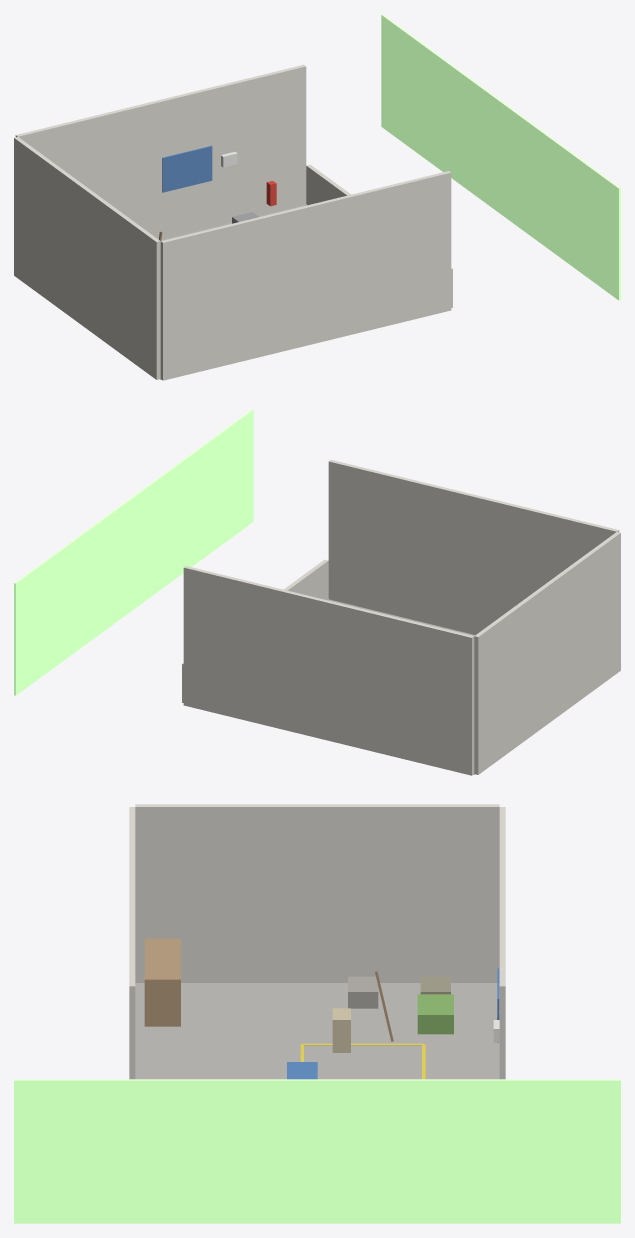
Rendered from workshop-BiJVYV3j.glb.
3 views of the same model, one above another, from view 1: azimuth 30°, elevation 25°; view 2: azimuth 150°, elevation 25°; view 3: azimuth 270°, elevation 25° (orthographic). The views are drawn at different scales.
Parts seen in each view (by area): view 1: SET_wall_front, SET_wall_back, SET_backdrop, SET_wall_left, SET_toolboard, SET_wall_window; view 2: SET_wall_back, SET_wall_front, SET_backdrop, SET_wall_left, SET_wall_window; view 3: SET_backdrop, SET_wall_left, SET_floor, SET_bench, SET_wall_back, SET_wall_front, PILE_fresh, PILE_stones, PROP_sack, PILE_mouldy.
Part boxes in pixels (x1,y1,x2,y2): SET_wall_front: [160, 171, 451, 380]; SET_wall_back: [15, 64, 306, 239]; SET_backdrop: [381, 14, 620, 300]; SET_wall_left: [14, 137, 160, 379]; SET_toolboard: [162, 145, 212, 192]; SET_wall_window: [306, 164, 452, 307]; SET_wall_back: [183, 566, 474, 775]; SET_wall_front: [328, 459, 619, 634]; SET_backdrop: [14, 409, 253, 695]; SET_wall_left: [474, 532, 620, 774]; SET_wall_window: [182, 559, 328, 702]; SET_backdrop: [14, 1079, 620, 1223]; SET_wall_left: [135, 804, 499, 982]; SET_floor: [135, 983, 499, 1079]; SET_bench: [144, 938, 180, 1026]; SET_wall_back: [499, 807, 505, 1079]; SET_wall_front: [129, 807, 135, 1079]; PILE_fresh: [417, 994, 453, 1034]; PILE_stones: [348, 976, 378, 1008]; PROP_sack: [332, 1008, 350, 1052]; PILE_mouldy: [420, 976, 450, 994].
Bounding box in the file's own units: 10.13 × 3.22 × 10.
